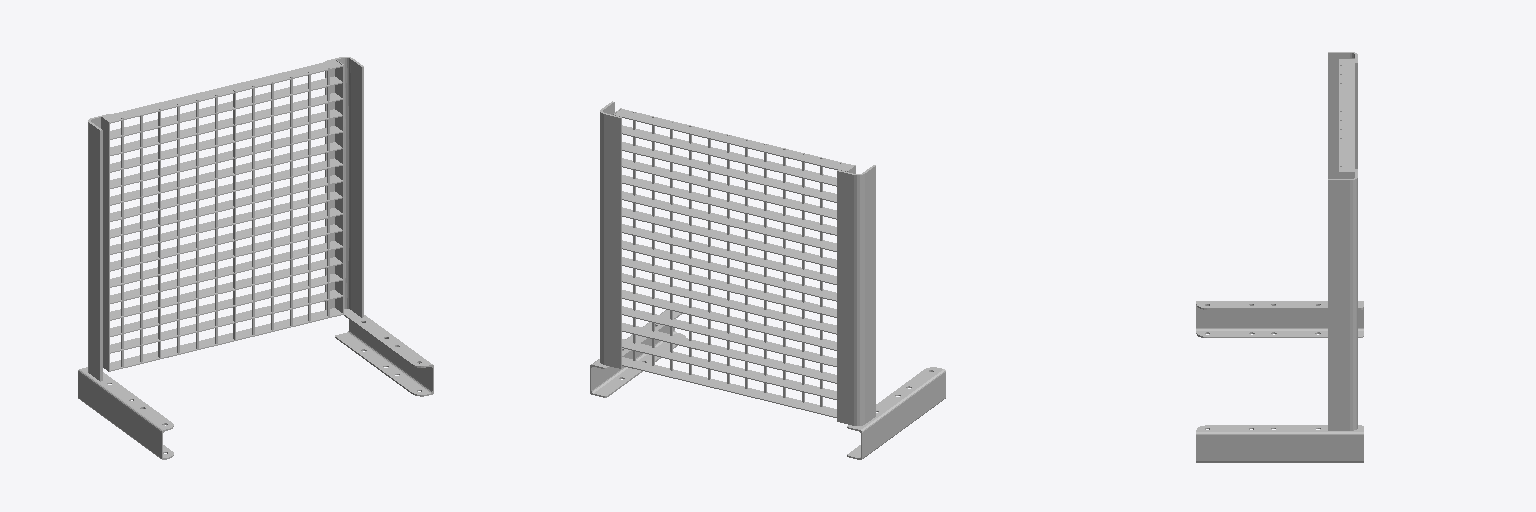
Rendered from podest_krotki.obj.
3 renders of one model, left to right at view 1: azimuth 30°, elevation 25°; view 2: azimuth 150°, elevation 25°; view 3: azimuth 270°, elevation 25°, orthographic.
Parts seen in each view (by area): view 1: Bryła411; view 2: Bryła411; view 3: Bryła411.
Boxes of the visible parts, <box> form: Bryła411: <box>78,57,433,459</box>; Bryła411: <box>590,101,945,459</box>; Bryła411: <box>1196,52,1363,462</box>.
Bounding box in the file's own units: 568 × 562 × 302.